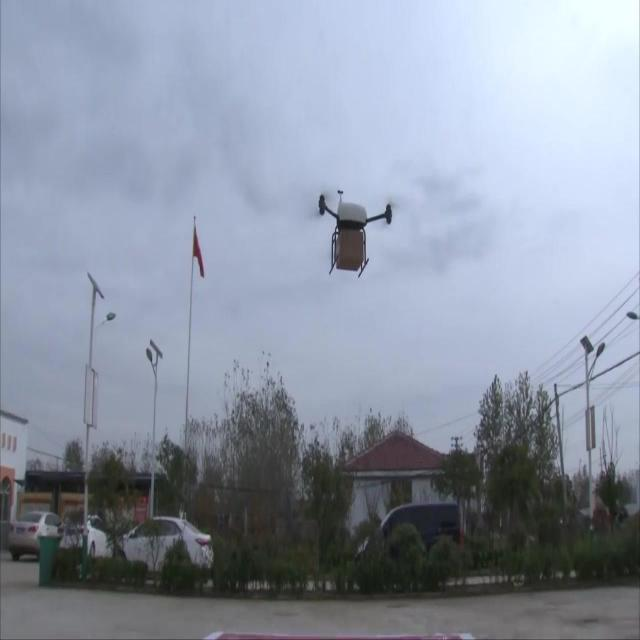UAV: (319, 190, 393, 278)
